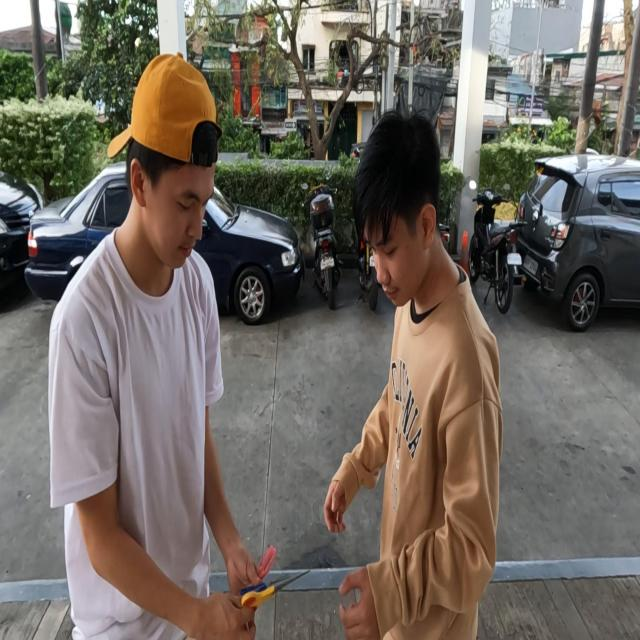scissor: (240, 561, 315, 611), (238, 544, 278, 602)
